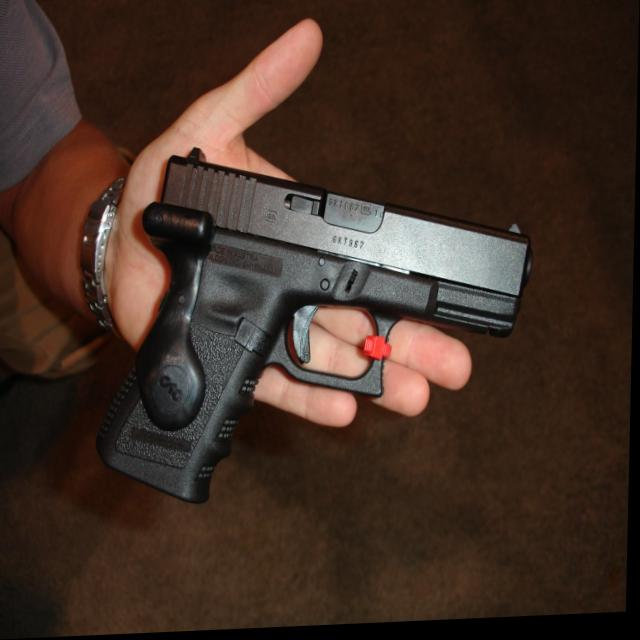handgun: (97, 136, 537, 507)
